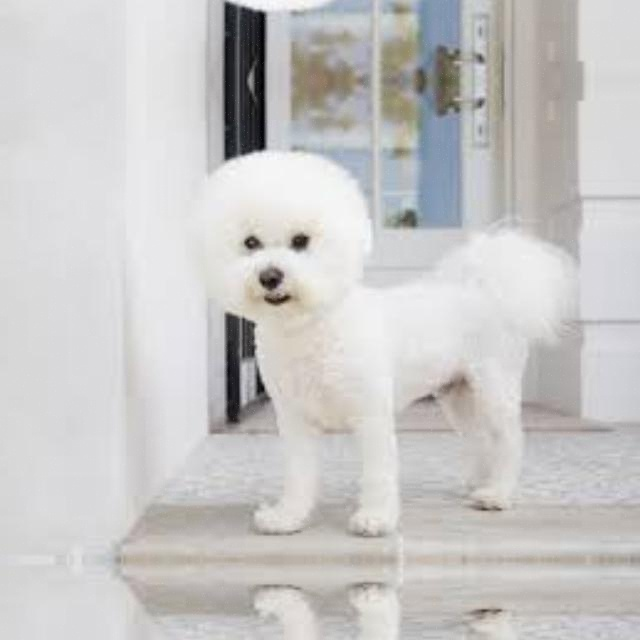dog: (195, 138, 610, 532), (195, 587, 610, 640), (195, 0, 610, 22)
